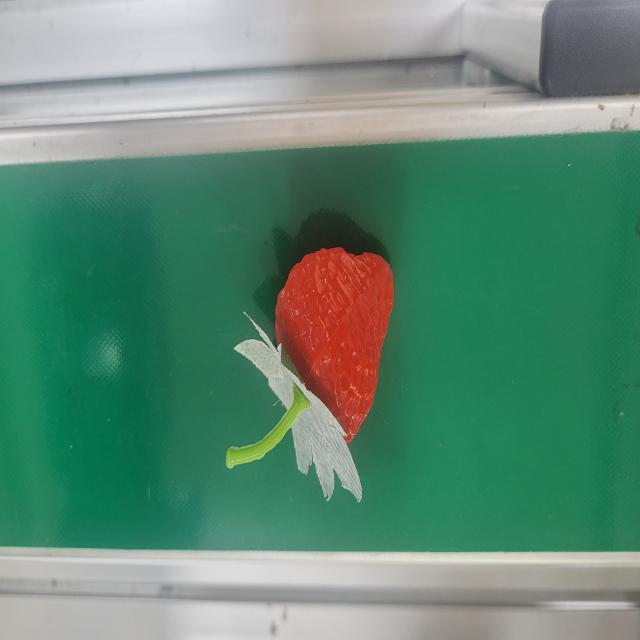Small Ripe Strawberry: (256, 243, 395, 487)
